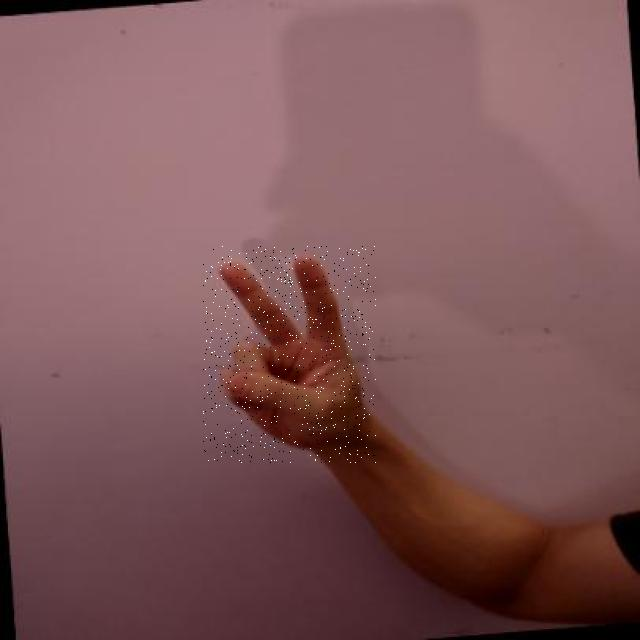V: (203, 246, 376, 463)
